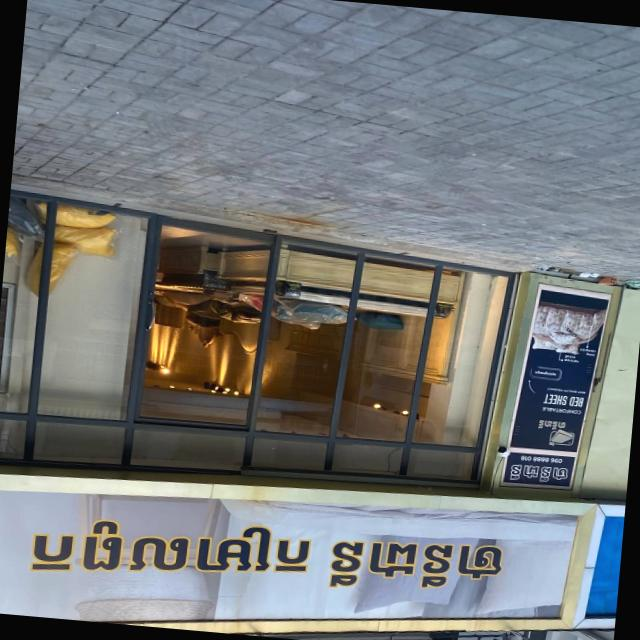1: (15, 514, 510, 597)
Yolov11_80vkh: (506, 459, 573, 485), (532, 416, 571, 431)
